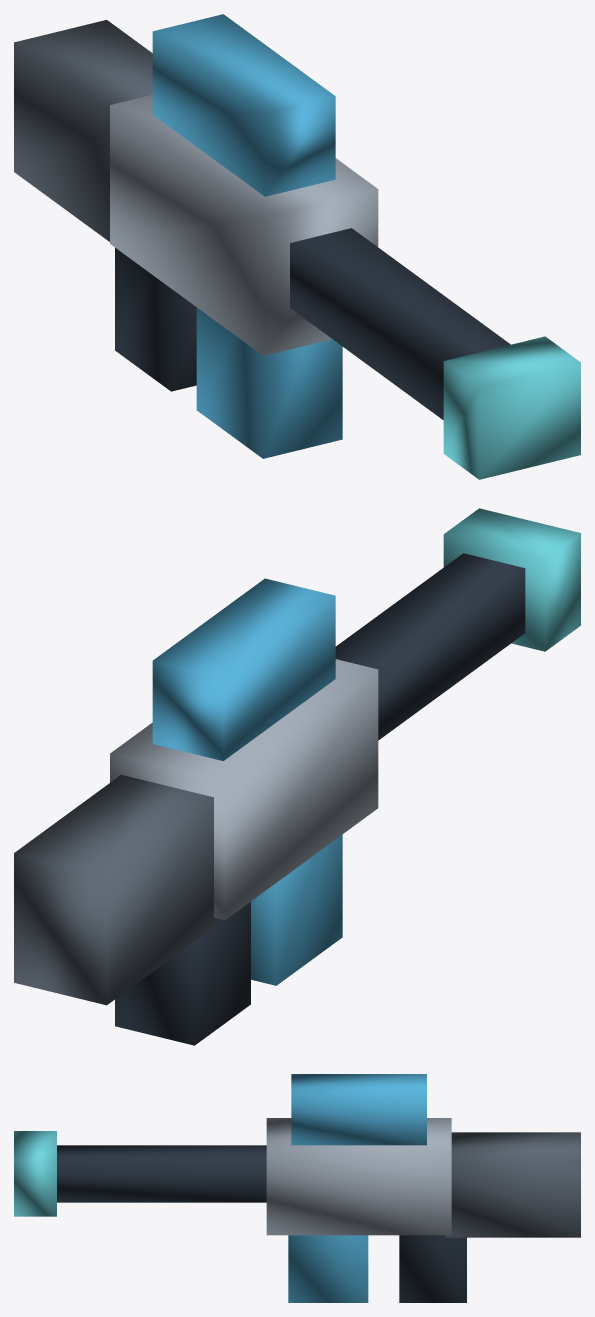
The model's file is moonlance.glb.
3 renders of one model, top to bottom at view 1: azimuth 30°, elevation 25°; view 2: azimuth 150°, elevation 25°; view 3: azimuth 270°, elevation 25°, orthographic. The views are drawn at different scales.
Parts seen in each view (by area): view 1: Hardware; view 2: Hardware; view 3: Hardware.
Boxes of the visible parts, bbox=[...] form: Hardware: bbox=[14, 14, 580, 479]; Hardware: bbox=[14, 508, 580, 1045]; Hardware: bbox=[14, 1074, 580, 1302].
Size of the model in its own units: 0.13 by 0.37 by 0.92.
